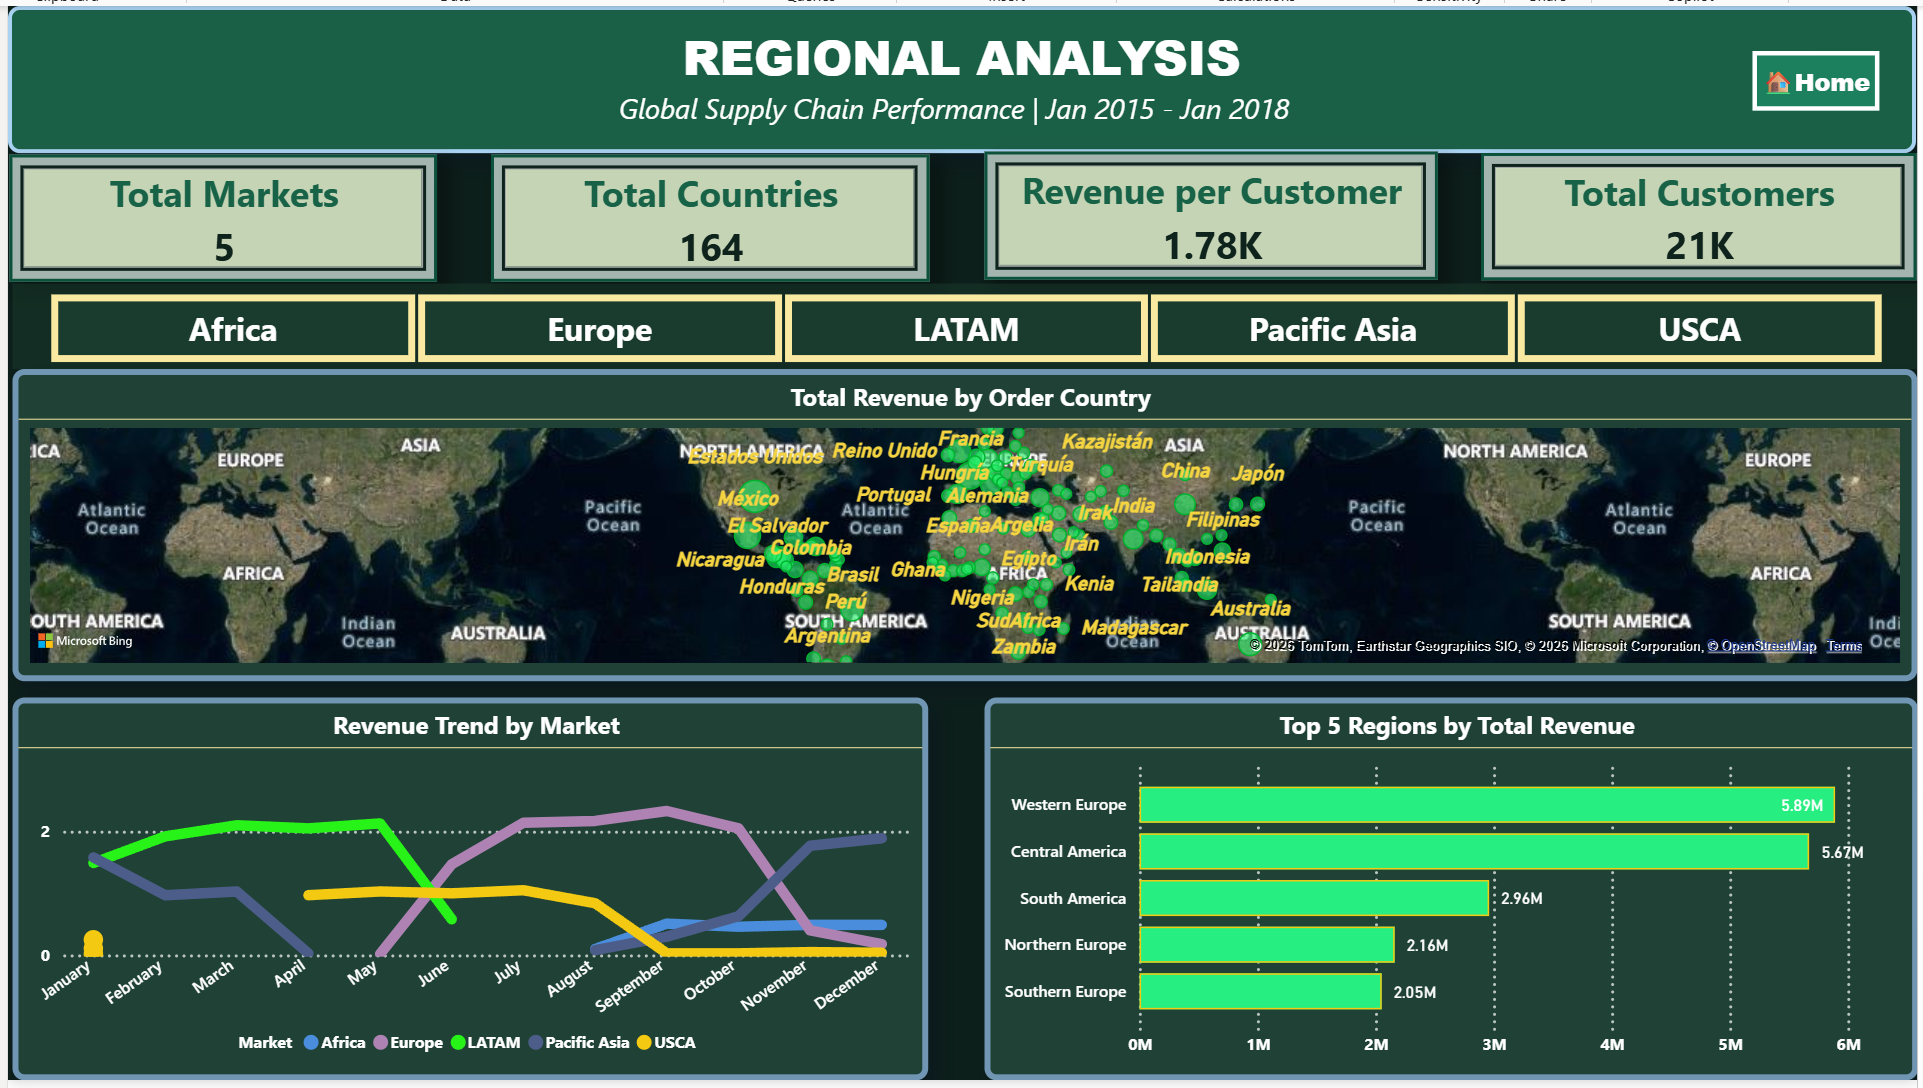

What the dashboard file says about the page in this screenshot:
{"tool":"powerbi","page":{"name":"Regional Analysis","canvas":[1280,720],"ordinal":4},"visuals":[{"type":"textbox","box":[0,0,1279.3,98.6],"z":0},{"type":"cardVisual","fields":{"Data":["supply_chain_cleaned.Total Countries"]},"box":[324.2,99.6,293.7,85.5],"z":1000},{"type":"cardVisual","fields":{"Data":["supply_chain_cleaned.Revenue per Customer"]},"box":[654.5,97.9,303.7,86],"z":2000},{"type":"cardVisual","fields":{"Data":["supply_chain_cleaned.Total Markets"]},"box":[1,99.6,286.6,85.5],"z":3000},{"type":"cardVisual","fields":{"Data":["supply_chain_cleaned.Total Customers"]},"box":[987.7,98.6,291.7,85.5],"z":4000},{"type":"slicer","fields":{"Values":["supply_chain_cleaned.Market"]},"box":[3.4,185.6,1277.2,57.4],"z":5000},{"type":"map","fields":{"Category":["supply_chain_cleaned.Order Country"],"Size":["supply_chain_cleaned.Total Revenue"]},"box":[3.4,243,1277.2,209.2],"z":6000},{"type":"lineChart","title":"Revenue Trend by Market","fields":{"Category":["supply_chain_cleaned.order date (DateOrders).Variation.Date Hierarchy.Month"],"Y":["supply_chain_cleaned.Total Revenue"],"Series":["supply_chain_cleaned.Market"]},"box":[3.4,464,614.1,256.5],"z":7000},{"type":"clusteredBarChart","title":"Top 5 Regions by Total Revenue","fields":{"Category":["supply_chain_cleaned.Order Region"],"Y":["supply_chain_cleaned.Total Revenue"]},"box":[654.6,464,625.9,256.5],"z":8000},{"type":"actionButton","box":[1169.4,30,85.1,40],"z":9000}]}

Visuals, with their boxes in screenshot pixels (x1, y1, x2, y2):
textbox: locate(5, 0, 1900, 146)
cardVisual - supply_chain_cleaned.Total Countries: locate(485, 148, 920, 274)
cardVisual - supply_chain_cleaned.Revenue per Customer: locate(975, 145, 1425, 272)
cardVisual - supply_chain_cleaned.Total Markets: locate(6, 148, 431, 274)
cardVisual - supply_chain_cleaned.Total Customers: locate(1468, 146, 1901, 273)
slicer - supply_chain_cleaned.Market: locate(10, 275, 1902, 360)
map - supply_chain_cleaned.Order Country x supply_chain_cleaned.Total Revenue: locate(10, 360, 1902, 670)
"Revenue Trend by Market" lineChart: locate(10, 687, 920, 1067)
"Top 5 Regions by Total Revenue" clusteredBarChart: locate(975, 687, 1902, 1067)
actionButton: locate(1738, 44, 1864, 104)
